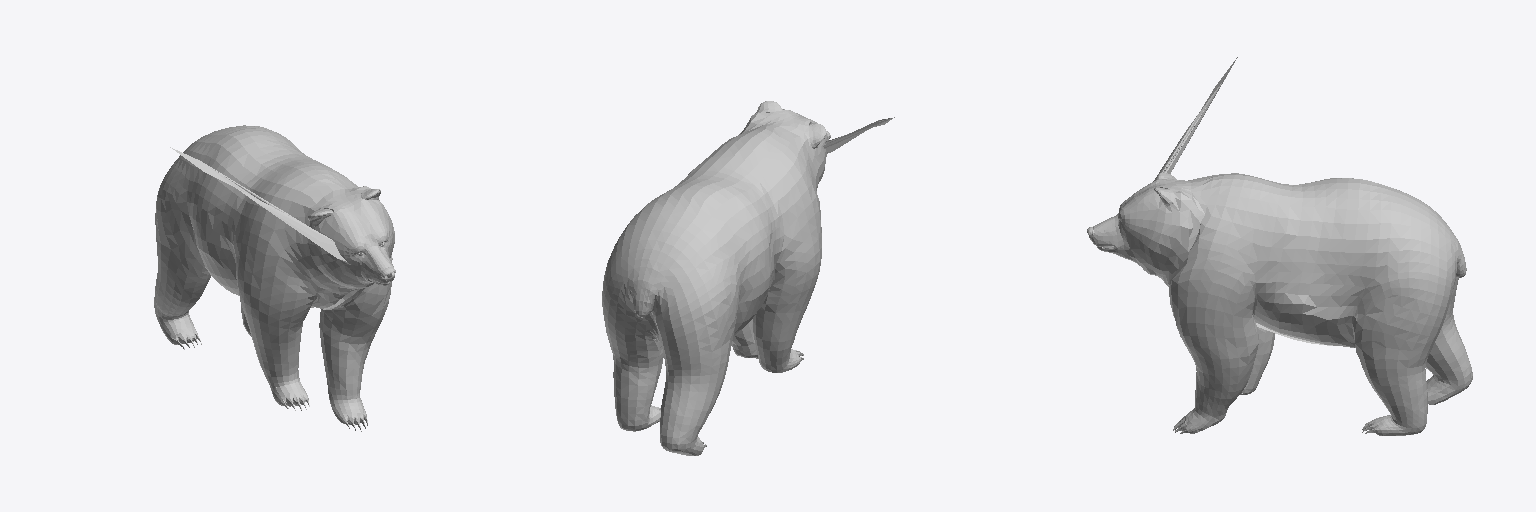
File: Bear0183.obj
3 views of the same model, side by side, from view 1: azimuth 30°, elevation 25°; view 2: azimuth 150°, elevation 25°; view 3: azimuth 270°, elevation 25° (orthographic).
Parts seen in each view (by area): view 1: Object_237; view 2: Object_237; view 3: Object_237.
Part boxes in pixels (left/top/right/bottom): Object_237: left=154, top=125, right=395, bottom=431; Object_237: left=602, top=101, right=894, bottom=455; Object_237: left=1087, top=57, right=1472, bottom=435.
Size of the model in its own units: 3.14 by 4.22 by 4.93.